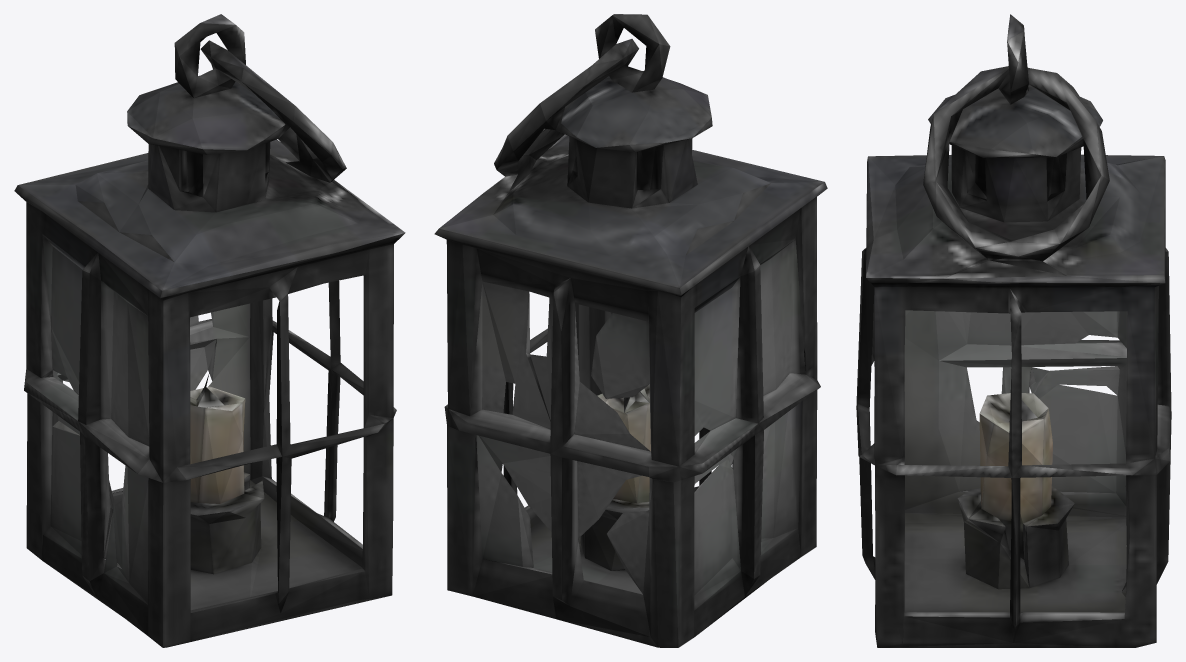
The model's file is vigil_lantern.glb.
The picture shows the model from 3 angles, left to right: view 1: azimuth 30°, elevation 25°; view 2: azimuth 150°, elevation 25°; view 3: azimuth 270°, elevation 25°; orthographic projection. The views are drawn at different scales.
Parts seen in each view (by area): view 1: tripo_node_53a0643c-90b8-4164-8cca-4f6fc48a9df0.001; view 2: tripo_node_53a0643c-90b8-4164-8cca-4f6fc48a9df0.001; view 3: tripo_node_53a0643c-90b8-4164-8cca-4f6fc48a9df0.001.
Part boxes in pixels (left/top/right/bottom): tripo_node_53a0643c-90b8-4164-8cca-4f6fc48a9df0.001: left=14, top=14, right=405, bottom=647; tripo_node_53a0643c-90b8-4164-8cca-4f6fc48a9df0.001: left=434, top=14, right=827, bottom=647; tripo_node_53a0643c-90b8-4164-8cca-4f6fc48a9df0.001: left=856, top=14, right=1171, bottom=647.
Bounding box in the file's own units: 0.4746 × 0.9741 × 0.4874.
Materials: 1 (1 with a texture image).
